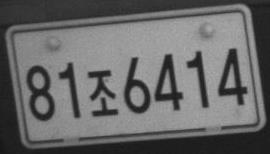1: (184, 50, 216, 107), (56, 61, 82, 119)
4: (217, 48, 248, 106), (153, 53, 183, 111)
6: (122, 56, 151, 114)
8: (25, 64, 55, 121)
조: (86, 69, 119, 117)
